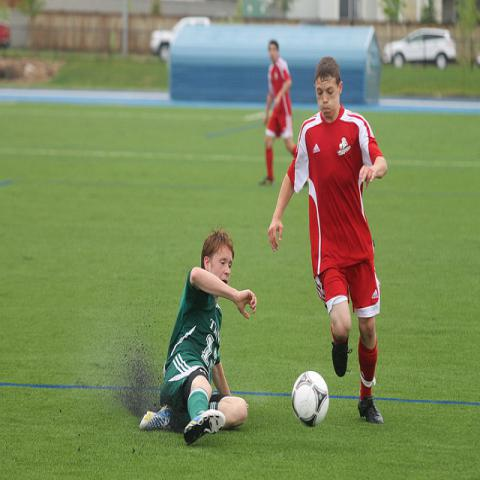car: (382, 28, 456, 71)
truck: (150, 16, 210, 69)
